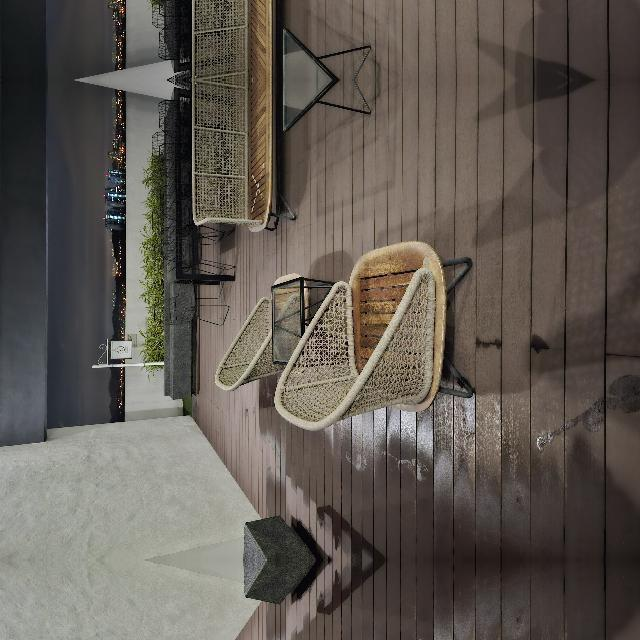obstacle: (127, 299, 317, 557), (155, 170, 321, 318), (326, 269, 478, 379), (127, 563, 317, 640), (0, 296, 50, 398), (426, 360, 479, 454)
